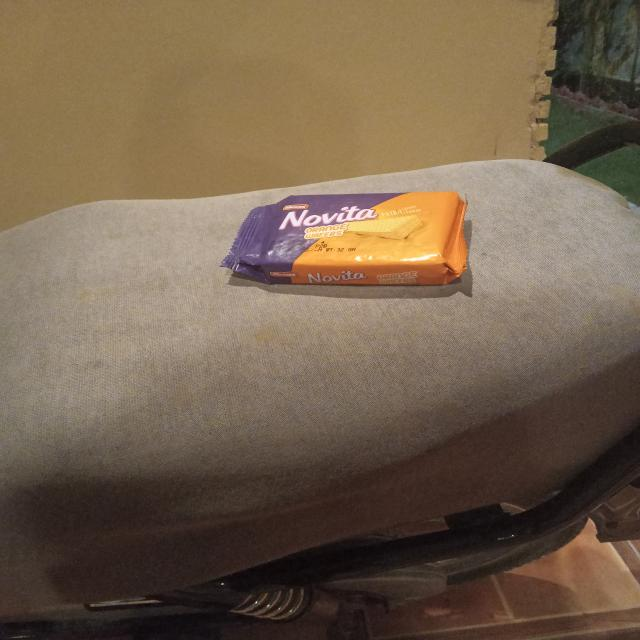Plastic: (226, 188, 474, 294)
